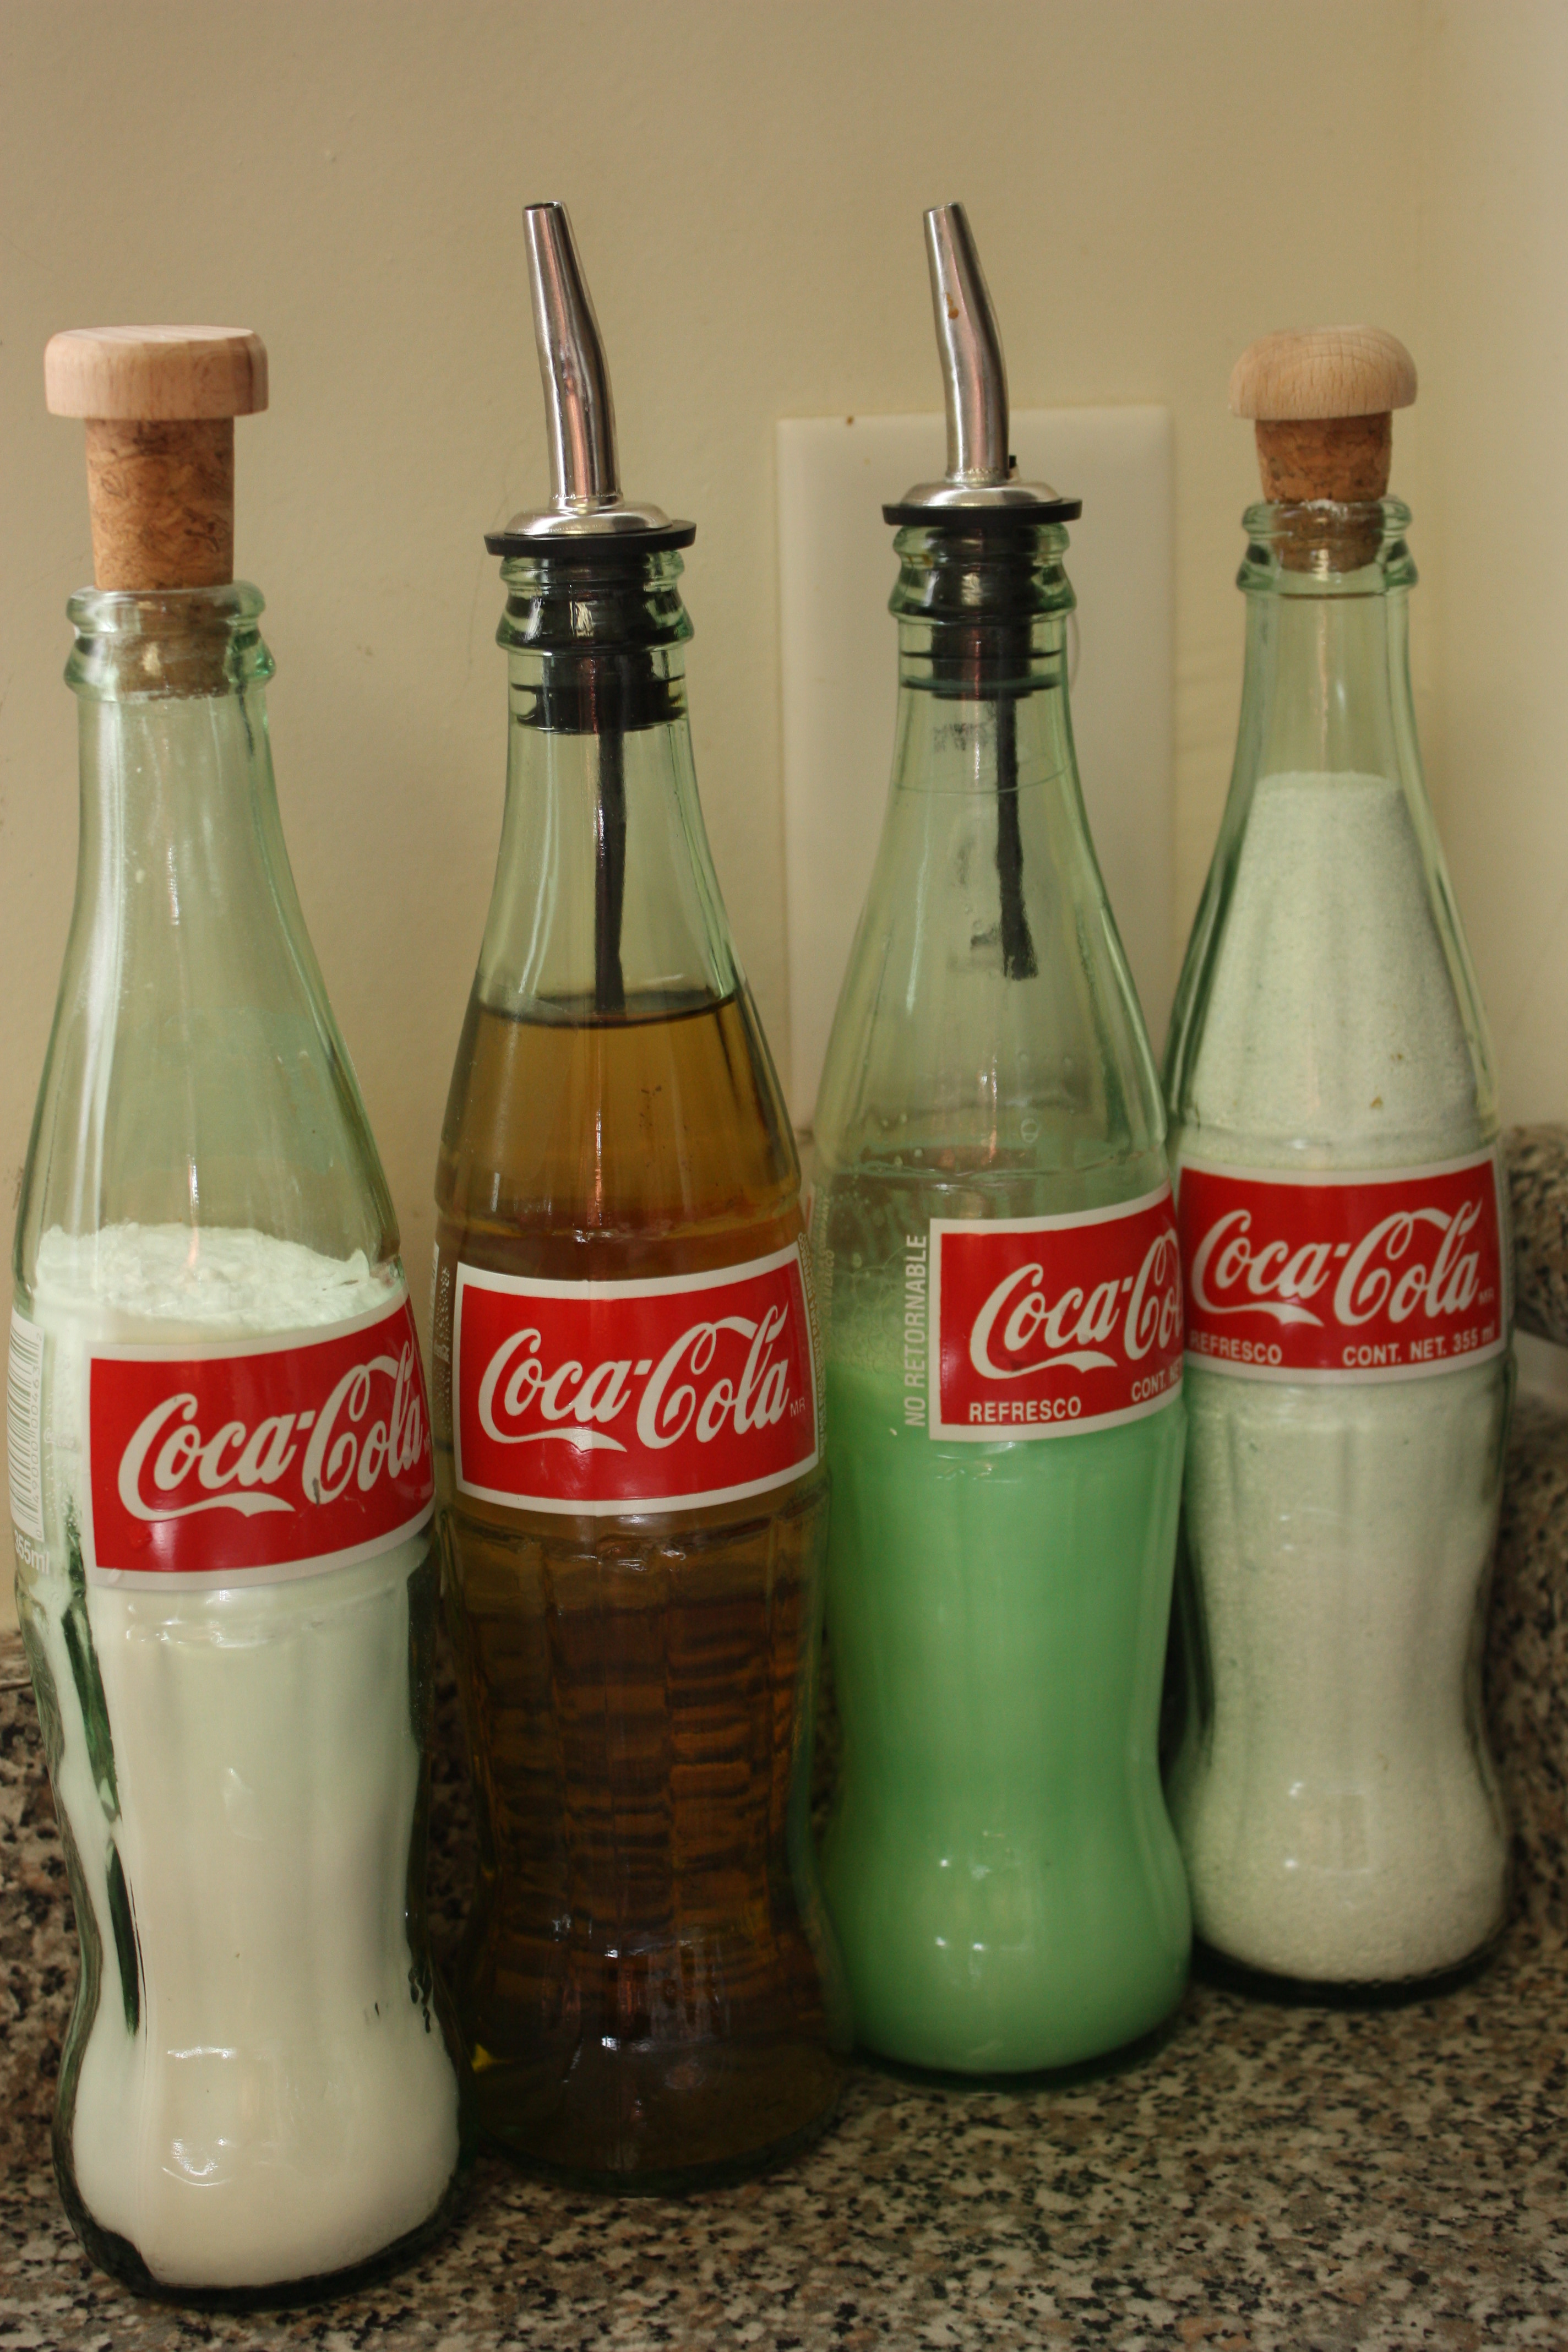Rec_Glass: (409, 537, 877, 2191), (0, 579, 418, 2299), (807, 493, 1204, 2095), (1162, 514, 1533, 1990)
